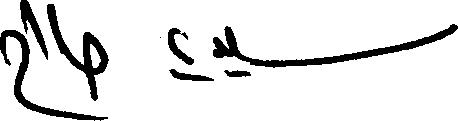X: (0, 0, 27, 113), (397, 19, 457, 56), (29, 0, 47, 119), (85, 27, 106, 120), (49, 0, 64, 120), (166, 23, 193, 85), (226, 21, 239, 81), (212, 24, 224, 85)
